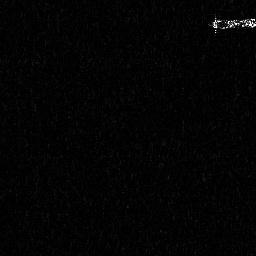ship: (206, 14, 256, 36)
